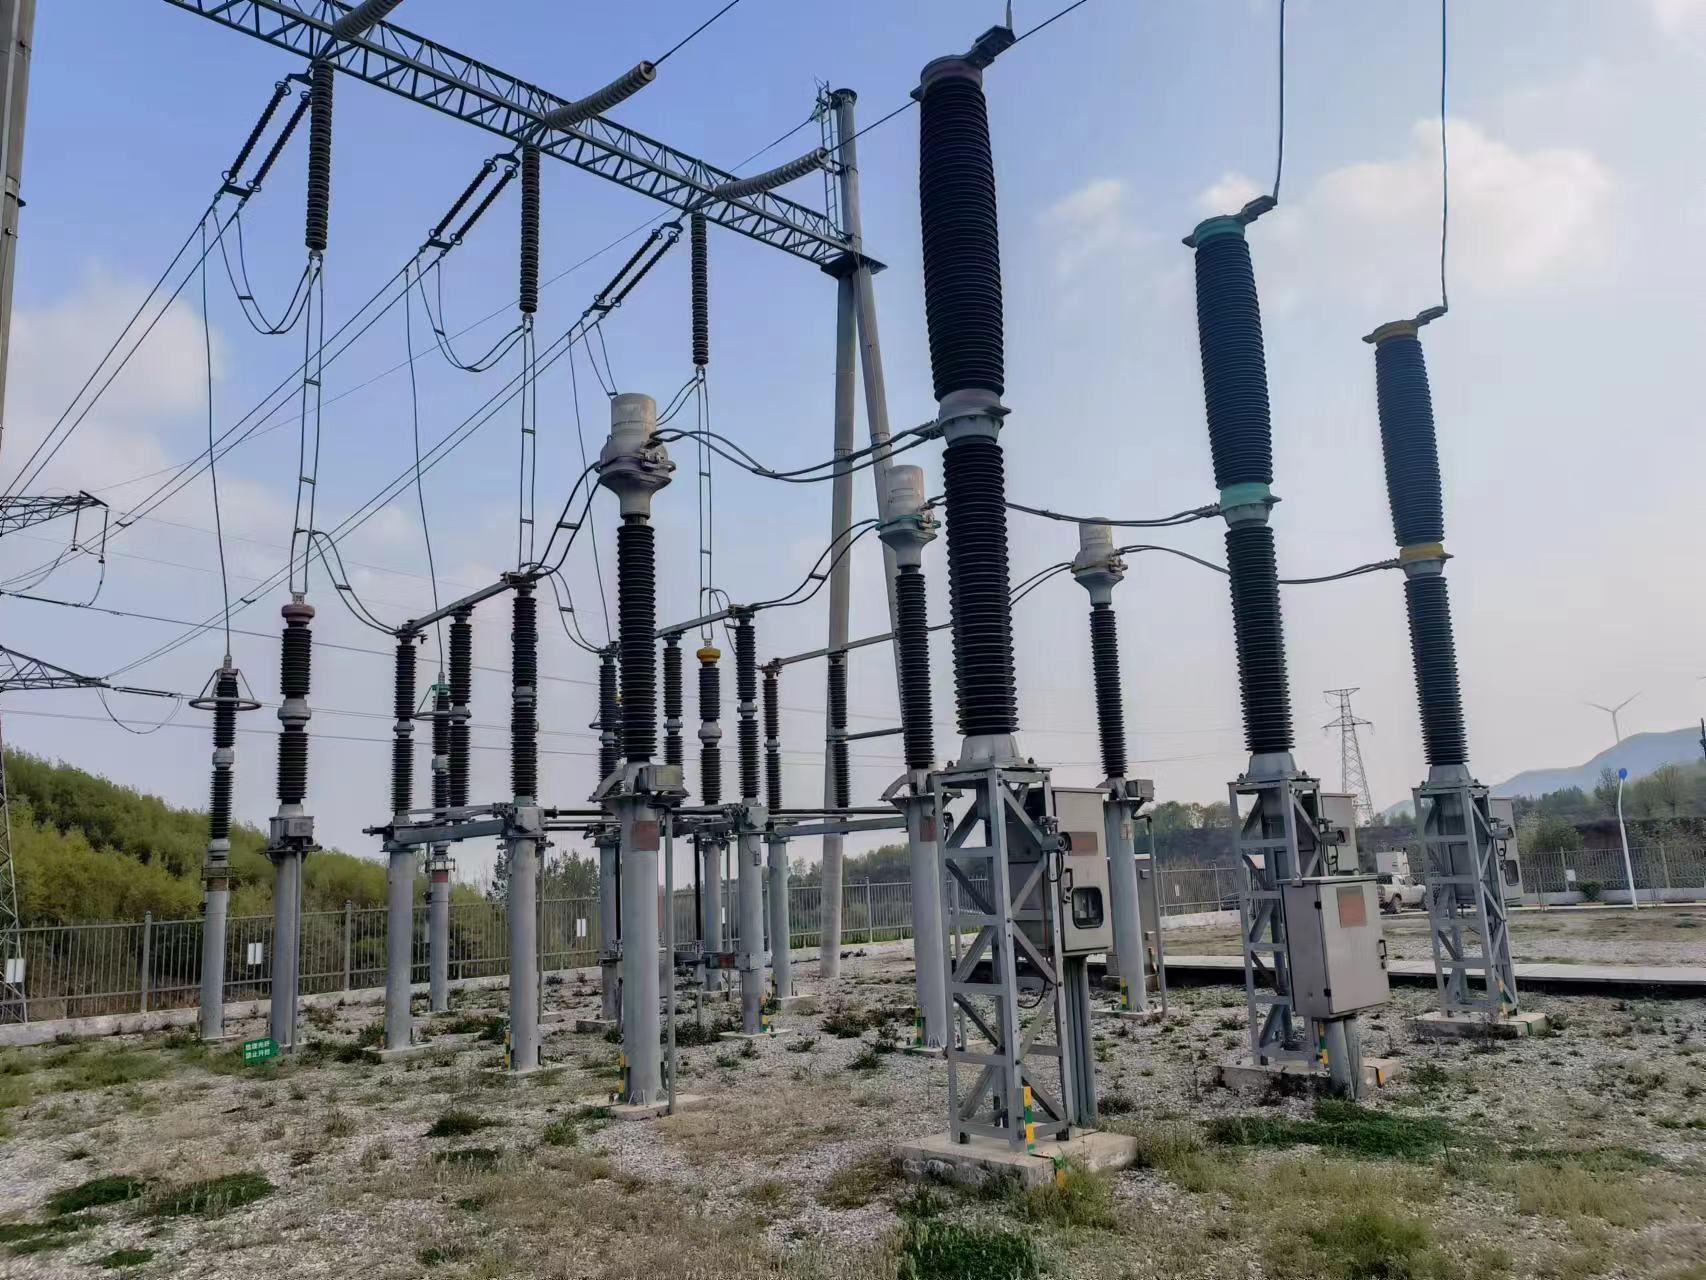Arrester: (183, 667, 265, 869)
Circuit-breaker: (911, 26, 1020, 756), (1183, 194, 1299, 777), (1347, 301, 1472, 787)
